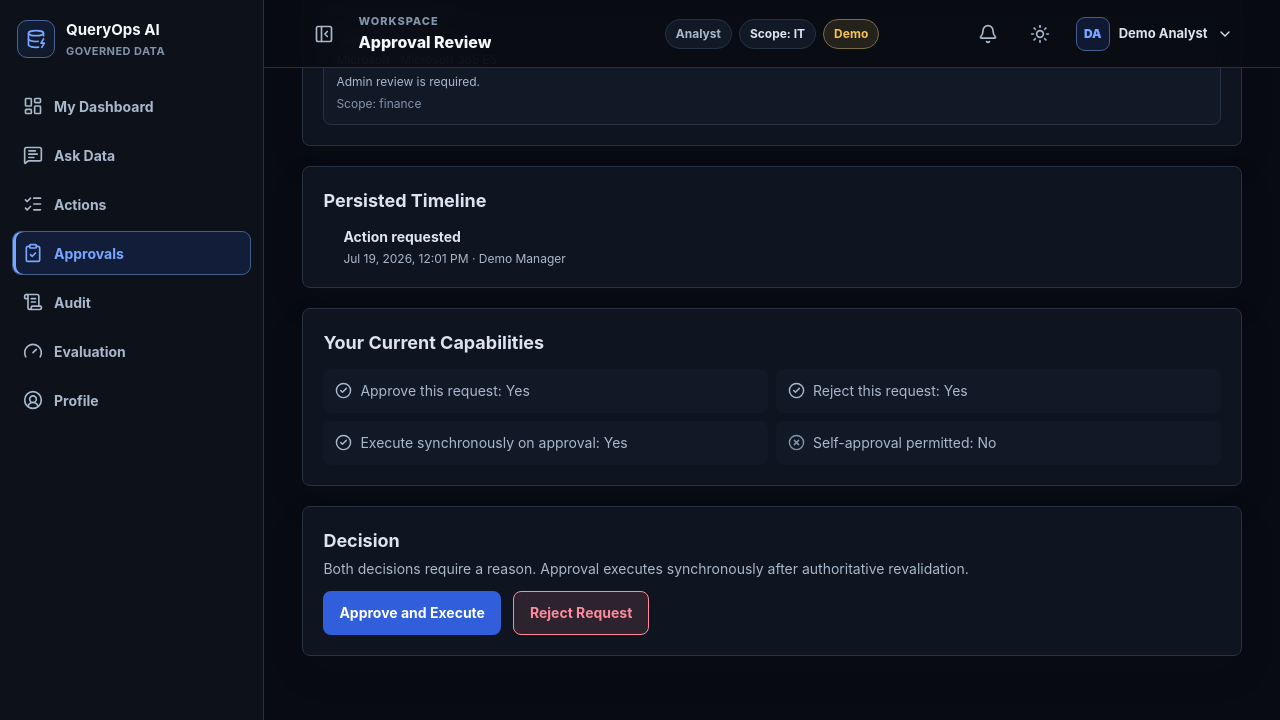
Test case: ApprovalDetailPage › reloads and locks safely after ACTION_ALREADY_PROCESSED
(page scrolled)
Click the button "Reject Request" at [581, 613], box [513,591,649,635]
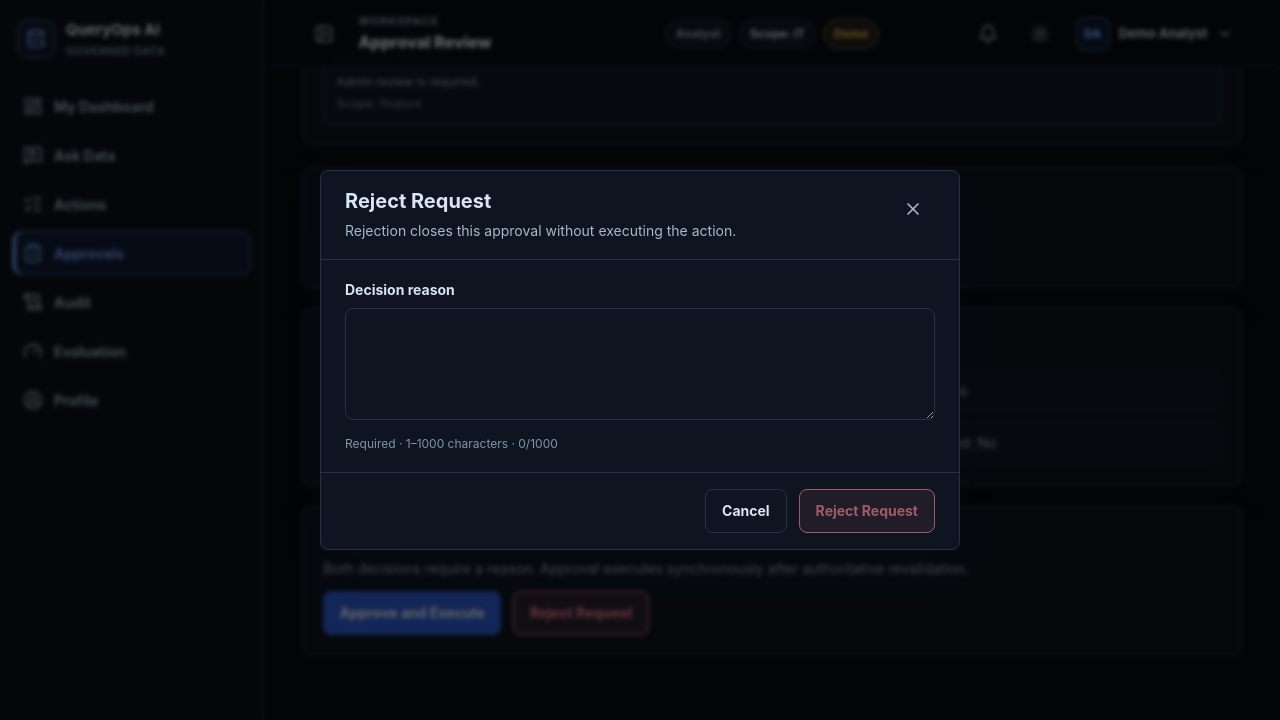
Type "Decision reviewed" into the text box labelled "Decision reason" at [640, 364], box [345,308,935,420]
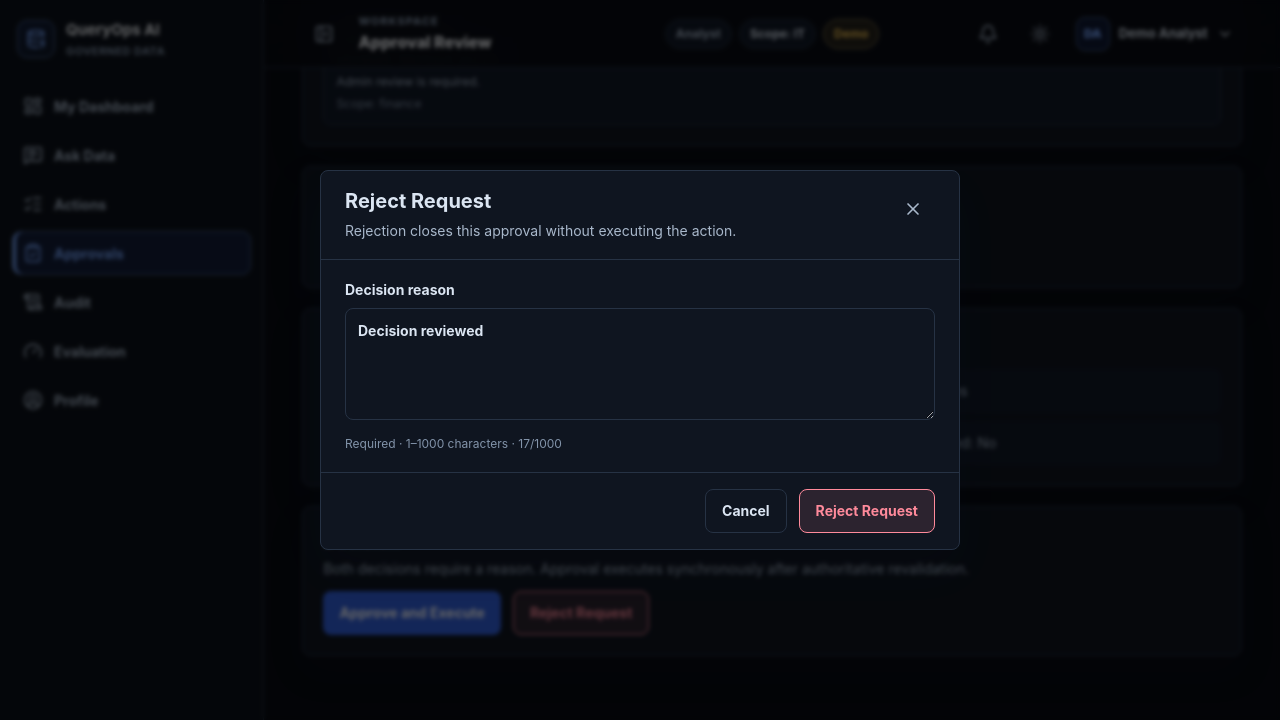
Click the button "Reject Request" at [867, 511], box [799,489,935,533]
(page scrolled)
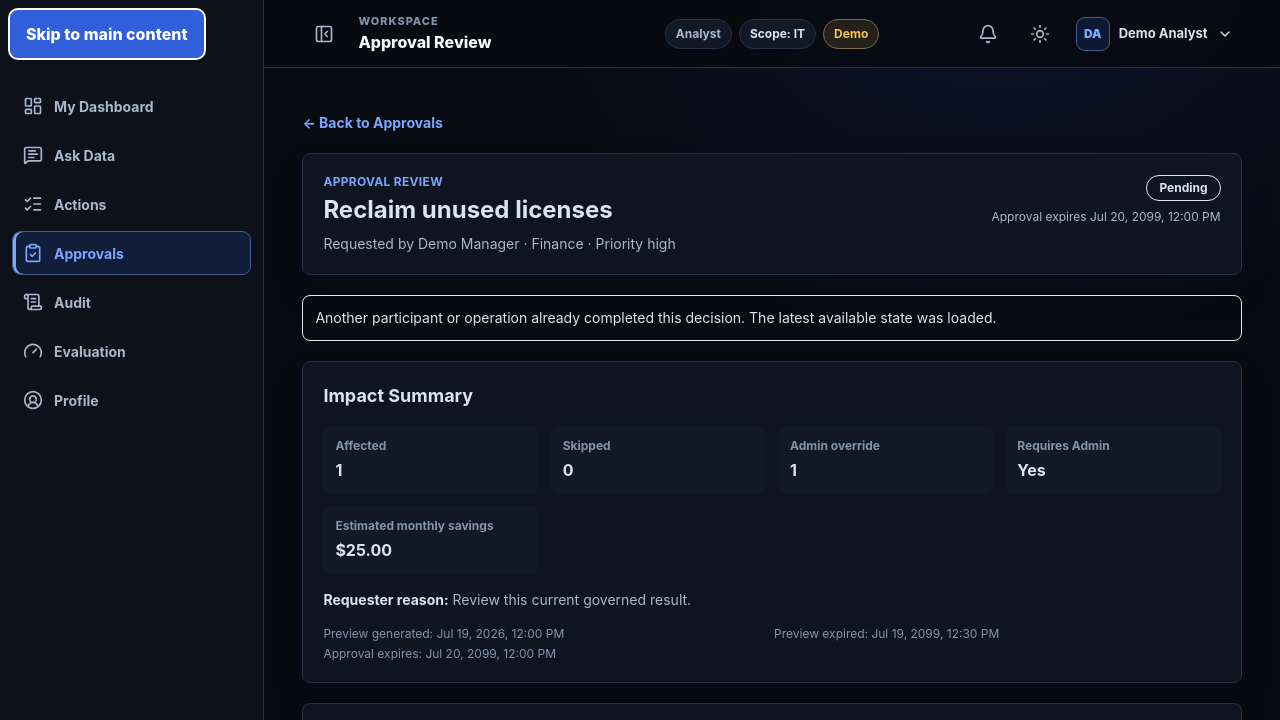
Result: the text "Another participant or operation already completed" is shown at [315,309,996,326]
Result: the button "Reject Request" is gone
